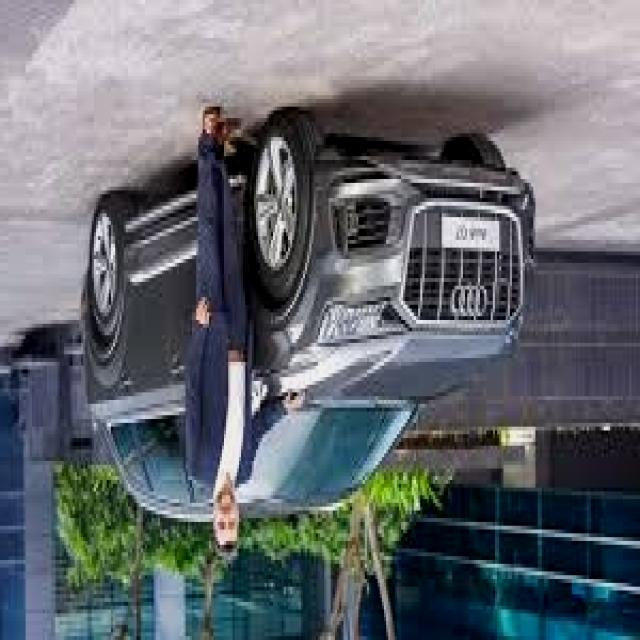black: (81, 104, 542, 524)
